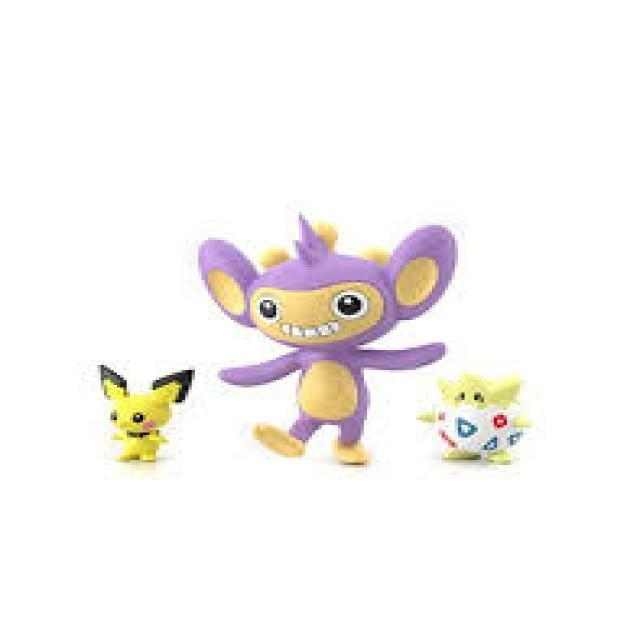pichu: (88, 363, 195, 466)
